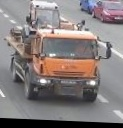truck: (0, 1, 115, 106)
